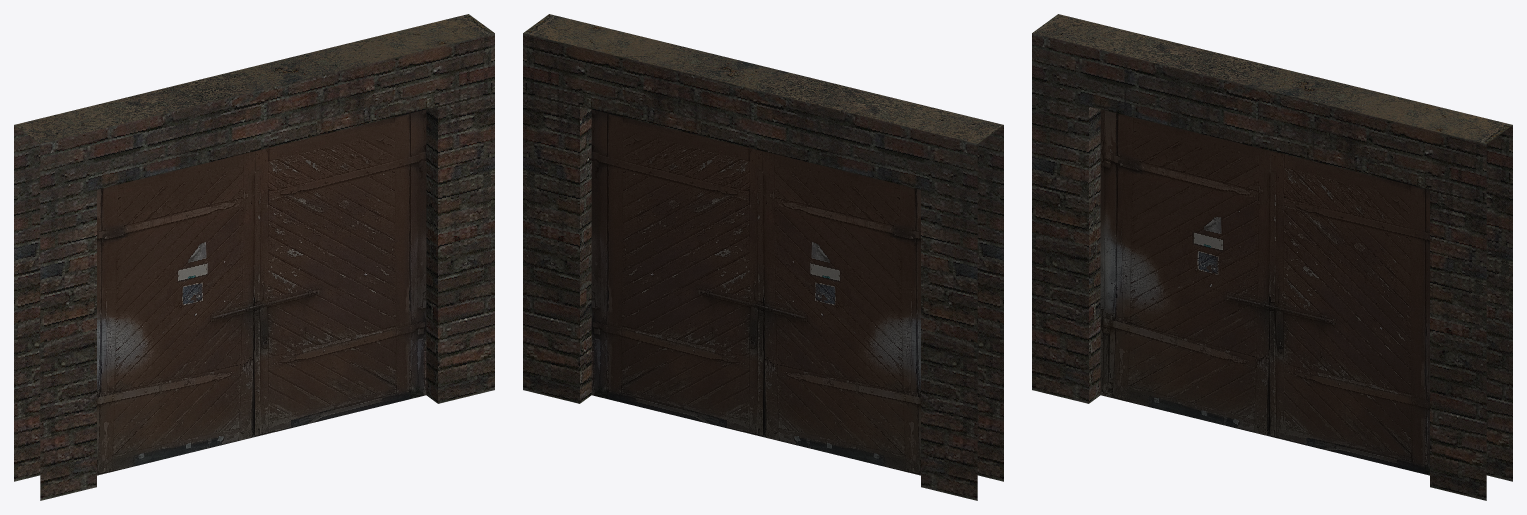
The model's file is garage_door_frame_hs_2.glb.
The picture shows the model from 3 angles, left to right: view 1: azimuth 30°, elevation 25°; view 2: azimuth 150°, elevation 25°; view 3: azimuth 330°, elevation 25°; orthographic projection.
Parts seen in each view (by area): view 1: garage_door_hm_7, garage_door_frame_hs_2; view 2: garage_door_hm_7, garage_door_frame_hs_2; view 3: garage_door_hm_7, garage_door_frame_hs_2.
Boxes of the visible parts, x1,y1,x2,y2 form: garage_door_hm_7: (97, 109, 426, 475); garage_door_frame_hs_2: (14, 14, 494, 500); garage_door_hm_7: (591, 109, 920, 475); garage_door_frame_hs_2: (523, 14, 1003, 500); garage_door_hm_7: (1100, 109, 1429, 475); garage_door_frame_hs_2: (1032, 14, 1512, 500).
Bounding box in the file's own units: 4 × 3 × 0.4.
Materials: 3 (3 with a texture image).
